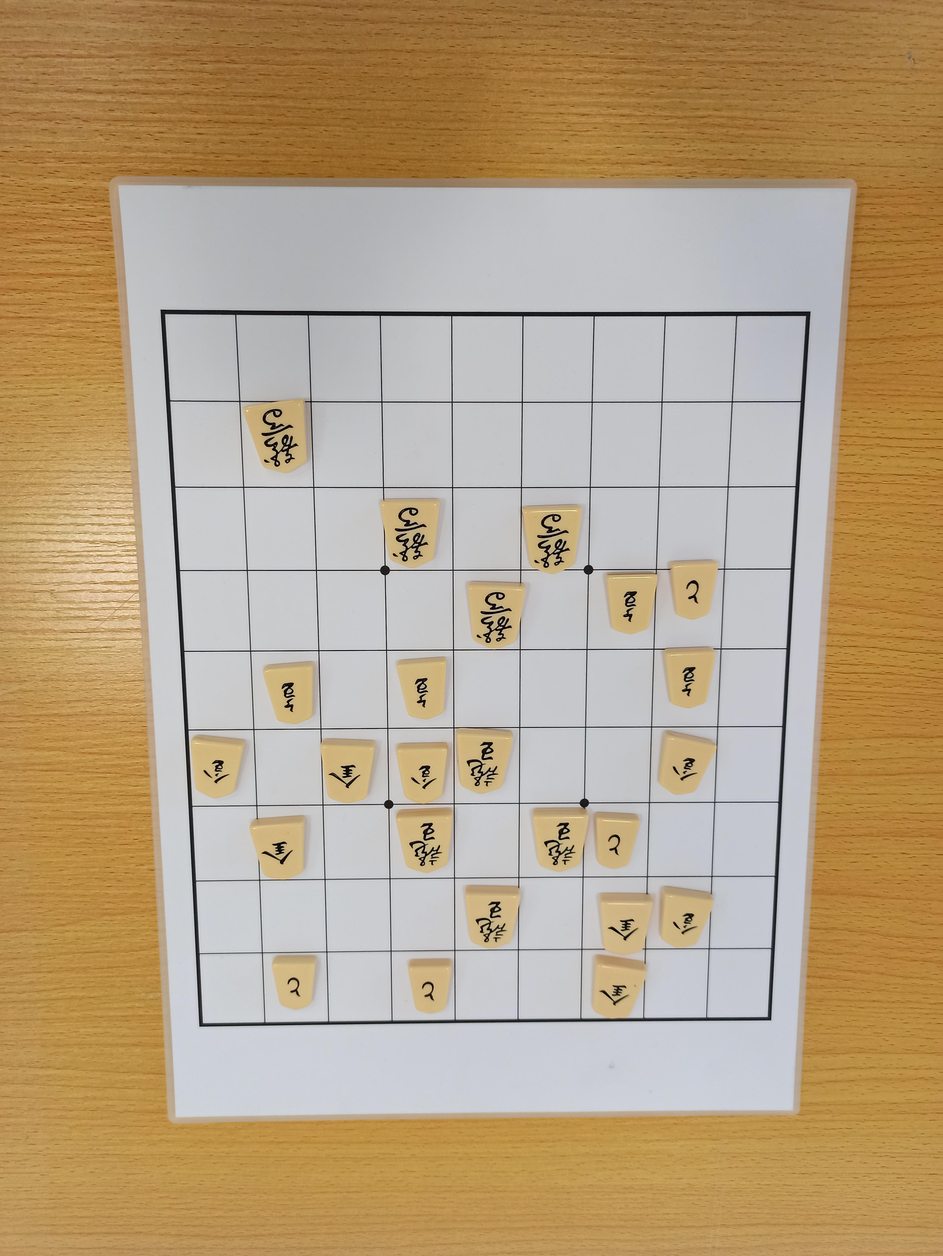board: (165, 312, 808, 1025)
